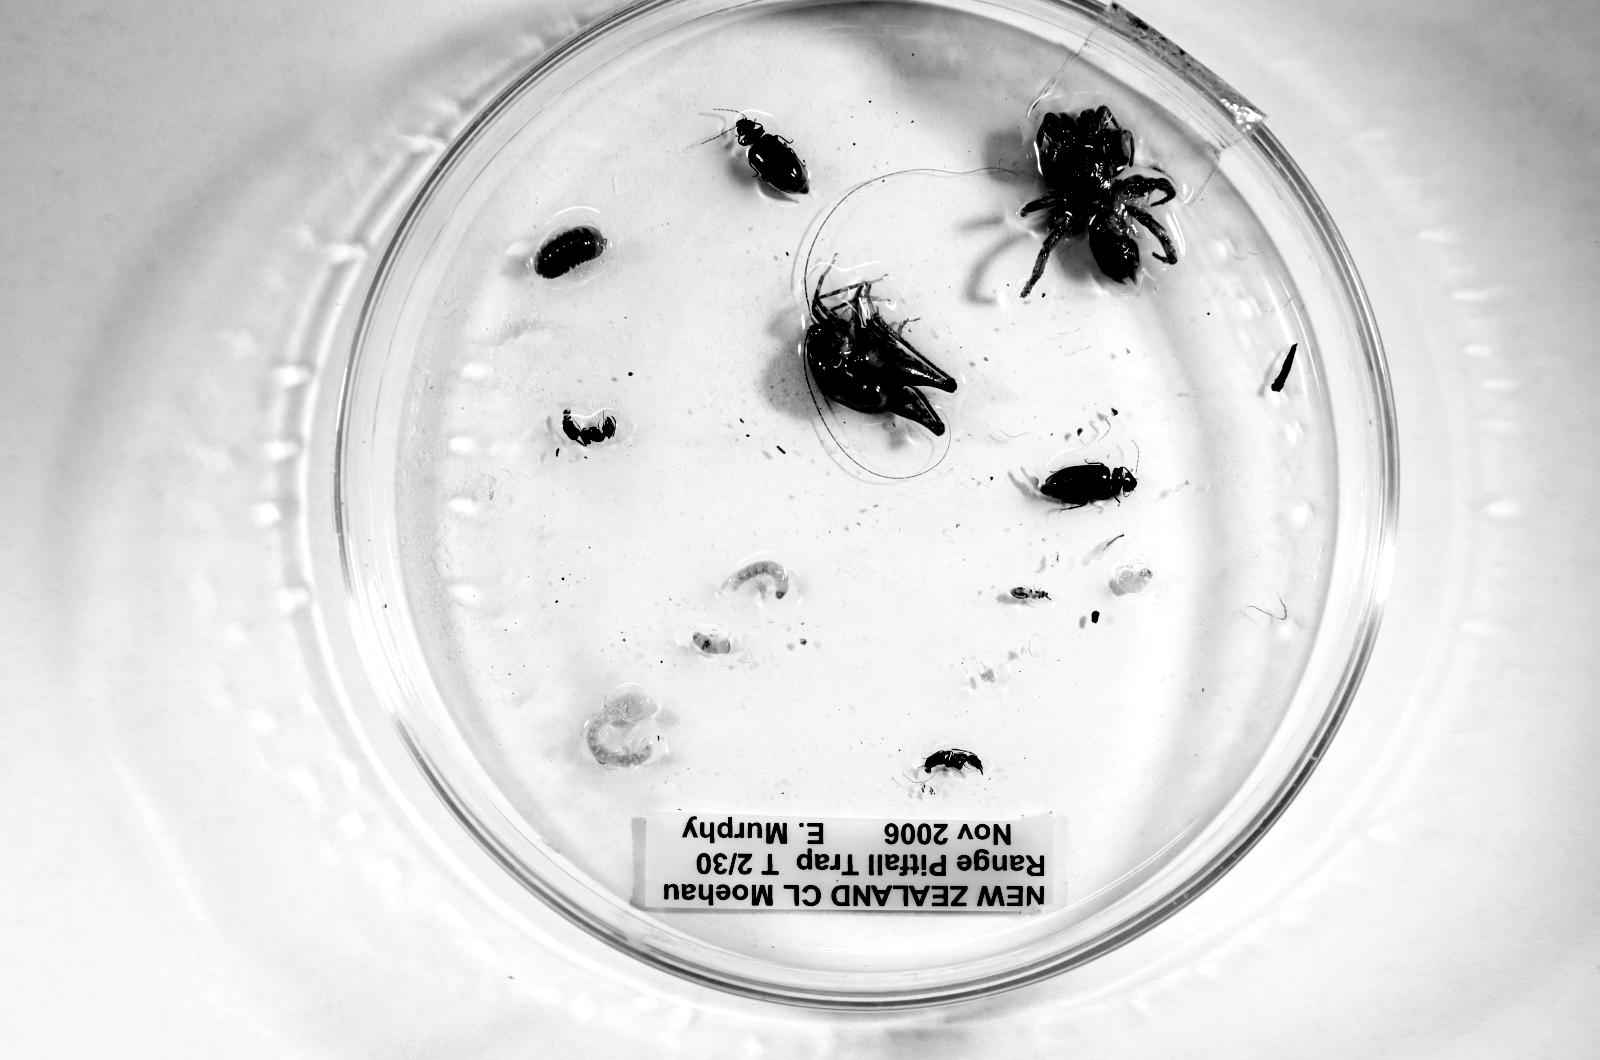araneae: (1021, 105, 1177, 297)
coleoptera: (736, 117, 809, 194), (1036, 461, 1136, 505)
collembola: (1010, 587, 1049, 600)
formicidae: (563, 409, 616, 446), (924, 749, 983, 774)
isopoda: (532, 224, 607, 278)
orthoptera: (805, 274, 957, 435)
